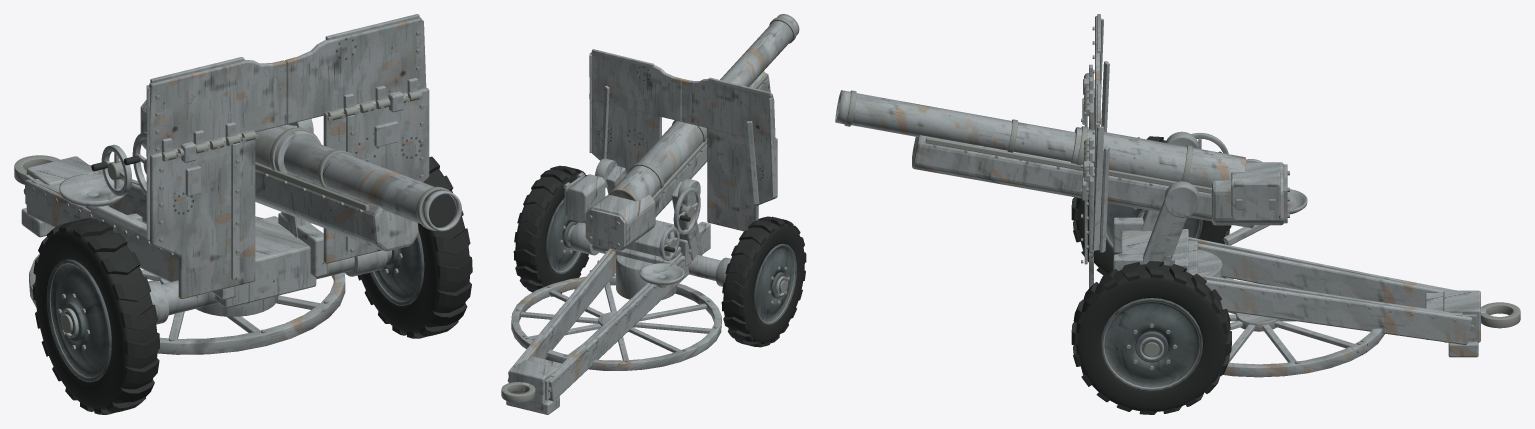
Rendered from QF25-Q2-unified-export.glb.
3 views of the same model, side by side, from view 1: azimuth 30°, elevation 25°; view 2: azimuth 150°, elevation 25°; view 3: azimuth 270°, elevation 25° (orthographic). The views are drawn at different scales.
Visible parts, largest first — view 1: QF25_Lower_Shield_-1, QF25_Upper_Shield_1, QF25_Upper_Shield_-1, QF25_Wheel_Carcass_-1, QF25_Lower_Shield_1, QF25_Lower_Exterior_Shroud, QF25_Main_Closed_Barrel, QF25_Wheel_Dished_Disc_-1_-1, QF25_Axle_Center_Shell, QF25_Wheel_Carcass_1, QF25_Platform_Rim, QF25_Trail_Side_Beam_-1 (+38 smaller); view 2: QF25_Lower_Shield_-1, QF25_Upper_Shield_1, QF25_Upper_Shield_-1, QF25_Wheel_Carcass_-1, QF25_Platform_Rim, QF25_Lower_Shield_1, QF25_Trail_Side_Beam_-1, QF25_Rear_Outer_Sleeve, QF25_Wheel_Carcass_1, QF25_Trail_Side_Beam_1, QF25_Wheel_Dished_Disc_-1_-1, QF25_Main_Closed_Barrel (+37 smaller); view 3: QF25_Wheel_Carcass_1, QF25_Trail_Side_Beam_1, QF25_Lower_Exterior_Shroud, QF25_Main_Closed_Barrel, QF25_Wheel_Dished_Disc_1_1, QF25_Trail_Side_Beam_-1, QF25_Rear_Outer_Sleeve, QF25_Platform_Rim, QF25_Rear_Closed_Housing, QF25_Rear_Box_Lid, QF25_Shroud_Edge_1, QF25_Carriage_Raked_Side_1 (+11 smaller).
Part boxes in pixels (x1,y1,x2,y2): QF25_Lower_Shield_-1: (150,130,255,298); QF25_Upper_Shield_1: (285,17,425,124); QF25_Upper_Shield_-1: (146,60,286,155); QF25_Wheel_Carcass_-1: (35,224,157,409); QF25_Lower_Shield_1: (323,87,429,263); QF25_Lower_Exterior_Shroud: (255,169,418,251); QF25_Main_Closed_Barrel: (284,138,434,223); QF25_Wheel_Dished_Disc_-1_-1: (46,259,111,382); QF25_Axle_Center_Shell: (215,216,316,307); QF25_Wheel_Carcass_1: (359,169,469,333); QF25_Platform_Rim: (29,213,345,354); QF25_Trail_Side_Beam_-1: (24,179,178,281); QF25_Lower_Shield_-1: (707,128,777,231); QF25_Upper_Shield_1: (589,51,682,121); QF25_Upper_Shield_-1: (681,78,774,143); QF25_Wheel_Carcass_-1: (723,222,804,344); QF25_Platform_Rim: (511,274,721,370); QF25_Lower_Shield_1: (592,100,661,173); QF25_Trail_Side_Beam_-1: (548,255,688,401); QF25_Rear_Outer_Sleeve: (609,120,707,201); QF25_Wheel_Carcass_1: (515,171,588,286); QF25_Trail_Side_Beam_1: (508,248,615,374); QF25_Wheel_Dished_Disc_-1_-1: (754,243,797,325); QF25_Main_Closed_Barrel: (615,21,792,199); QF25_Wheel_Carcass_1: (1076,264,1227,411); QF25_Trail_Side_Beam_1: (1205,279,1472,344); QF25_Lower_Exterior_Shroud: (912,135,1253,228); QF25_Main_Closed_Barrel: (845,92,1075,161); QF25_Wheel_Dished_Disc_1_1: (1100,298,1202,391); QF25_Trail_Side_Beam_-1: (1197,243,1456,308); QF25_Rear_Outer_Sleeve: (1071,127,1246,187); QF25_Platform_Rim: (1223,328,1384,377); QF25_Rear_Closed_Housing: (1212,162,1284,225); QF25_Rear_Box_Lid: (1232,183,1278,220); QF25_Shroud_Edge_1: (925,137,1211,193); QF25_Carriage_Raked_Side_1: (1142,186,1186,265).
Size of the model in its own units: 2.93 by 2.58 by 5.69.
6 materials, 3 textured.
